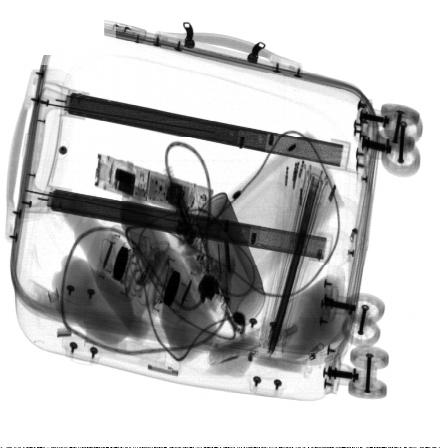Baton: (94, 152, 214, 222)
